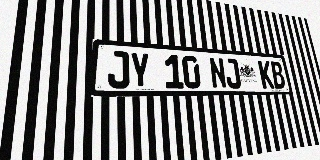0: (181, 55, 201, 88)
1: (164, 54, 184, 88)
B: (270, 61, 286, 89)
J: (108, 50, 130, 88), (223, 58, 242, 89)
K: (258, 60, 275, 89)
N: (209, 57, 227, 89)
Y: (130, 52, 151, 88)
